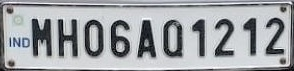character: (30, 17, 54, 57), (57, 18, 79, 58), (162, 18, 184, 58), (136, 19, 157, 60), (83, 18, 105, 56), (213, 18, 234, 57), (265, 16, 285, 56), (110, 19, 130, 57), (190, 18, 206, 58), (243, 17, 258, 55)
